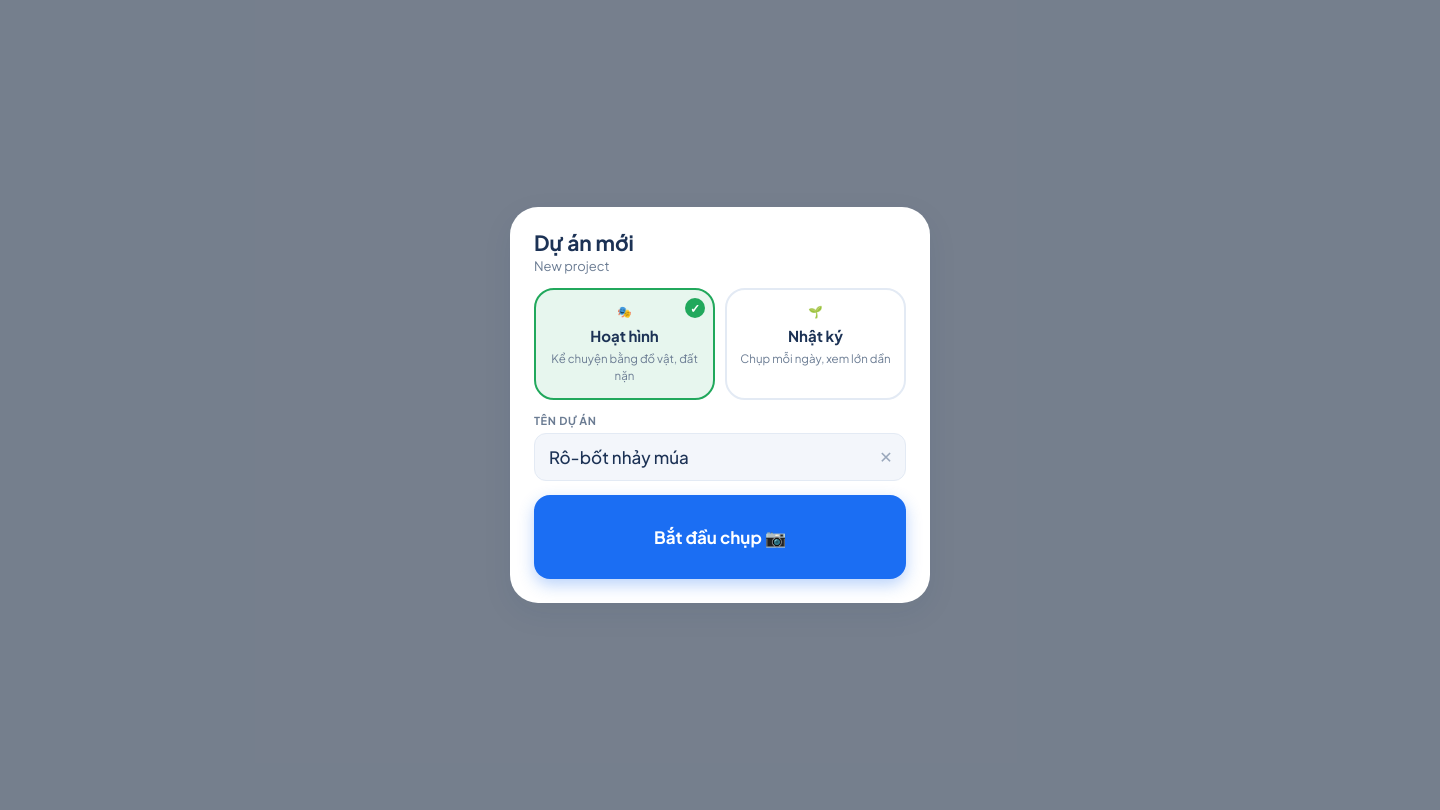
Test: NewProjectSheet — tên dự án (T-XP25 Đ2 AC3 — nút ✕ trong ô nhập) › nút ✕ HIỆN khi có chữ, bấm ✕ → xoá sạch tên
The image size is (1440, 810).
Step 1. Click the button with test id "new-project-name-clear" → (886, 457), box [870, 441, 902, 473]
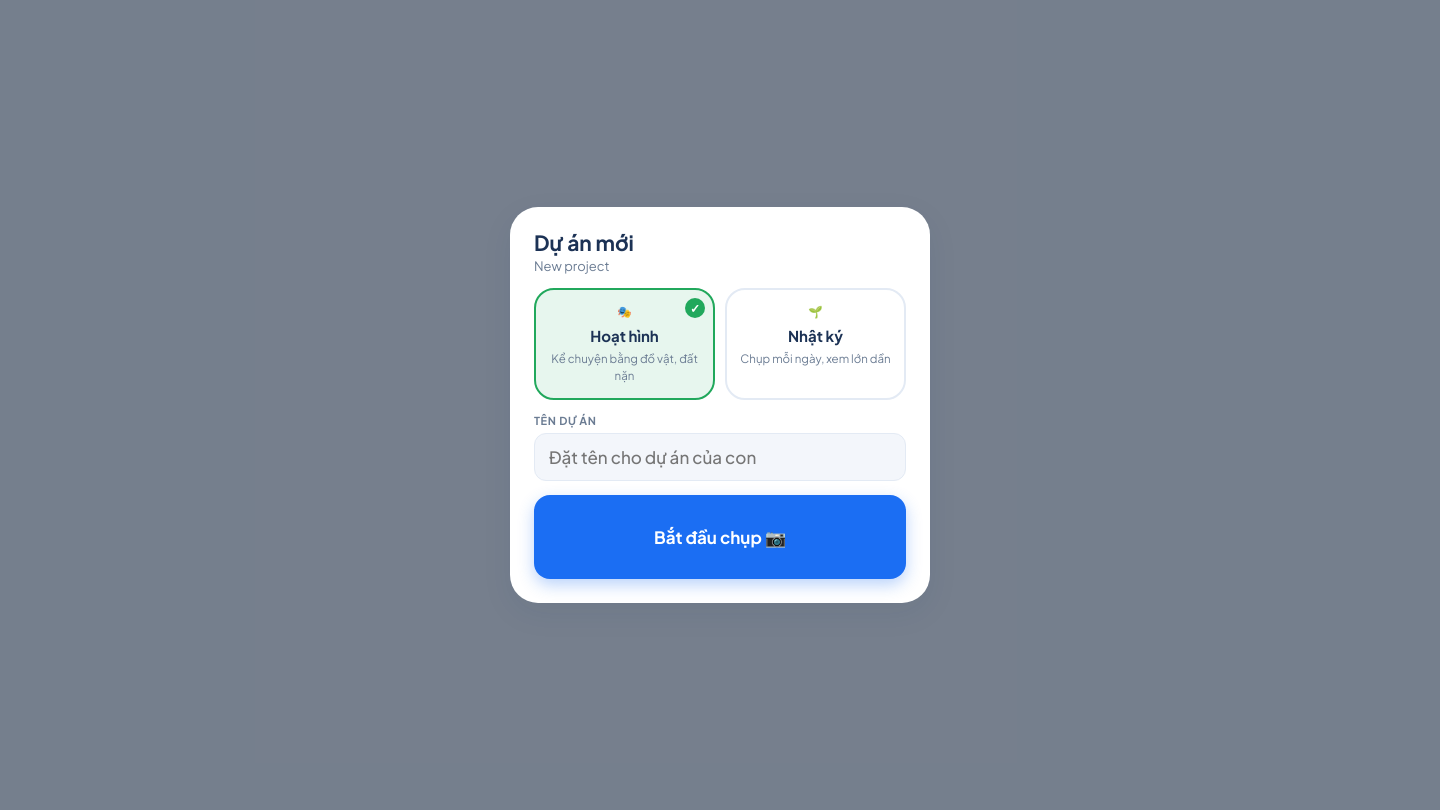
Check: the field with test id "new-project-name-input" is empty, box [534, 433, 906, 481]
Check: the button with test id "new-project-name-clear" is gone
